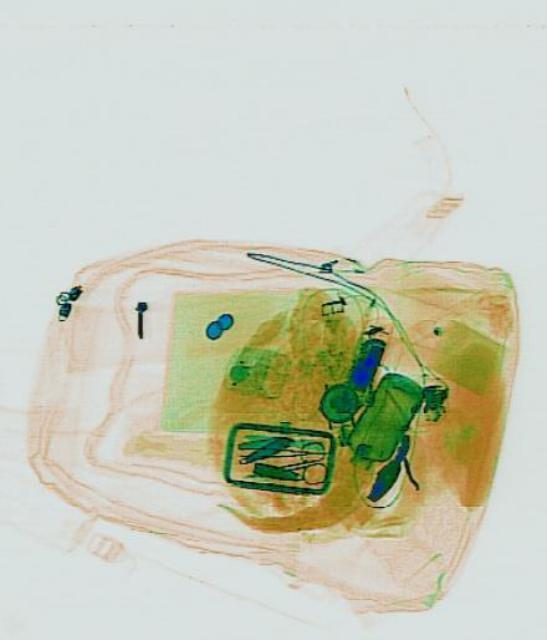Scissors: (254, 438, 327, 490)
